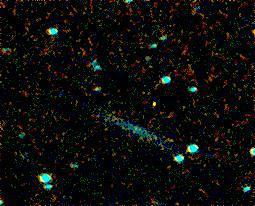star: (139, 88, 169, 118)
